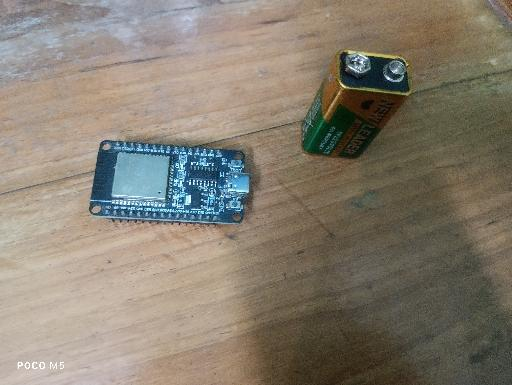Battery: (299, 49, 413, 161)
Esp32: (89, 139, 250, 229)
